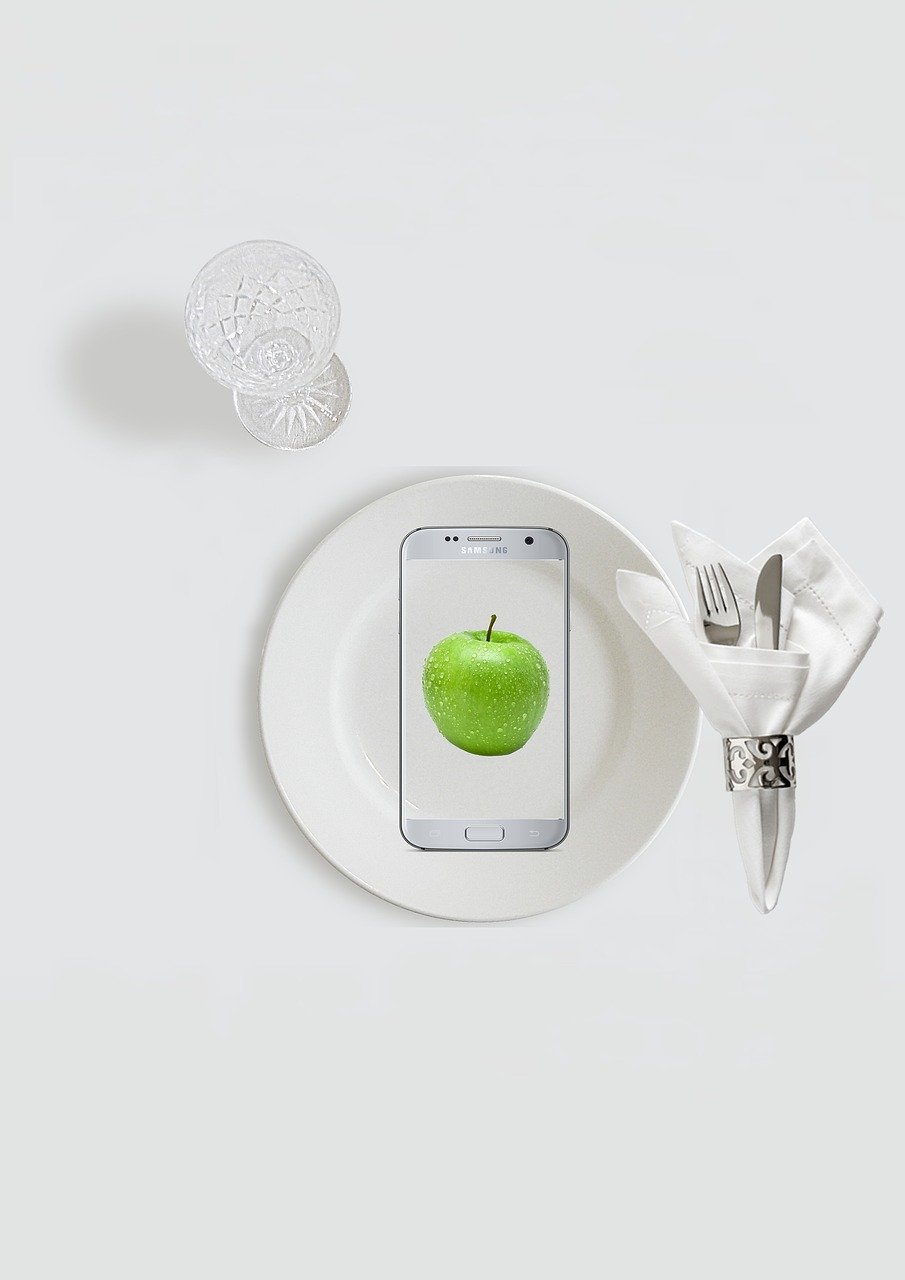knife: (744, 550, 792, 656)
